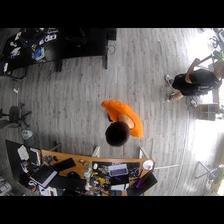normal: (164, 56, 224, 104), (100, 100, 143, 145)
